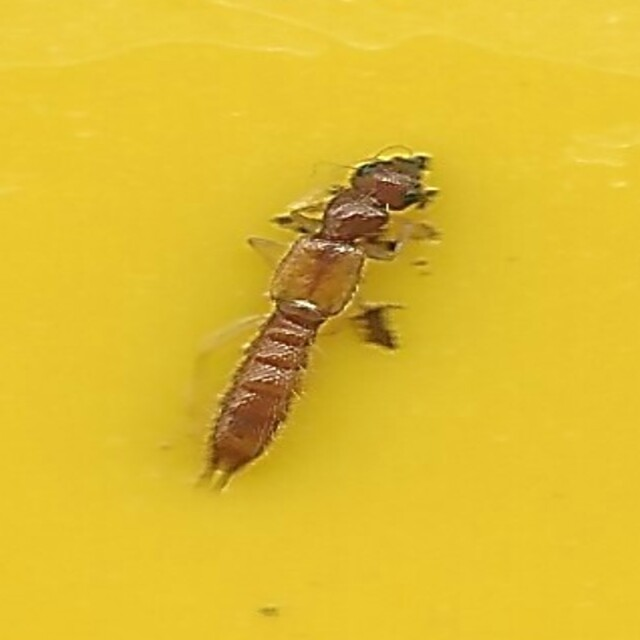Coleoptera: (201, 148, 439, 492)
